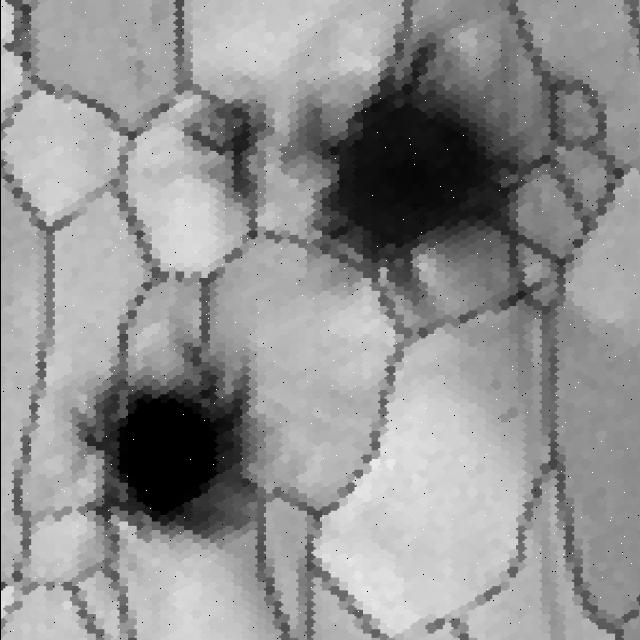good_void: (284, 34, 519, 327), (83, 331, 262, 546), (181, 79, 275, 202), (495, 400, 525, 426)
